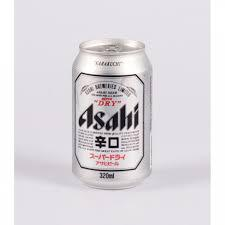beer: (70, 37, 154, 190)
